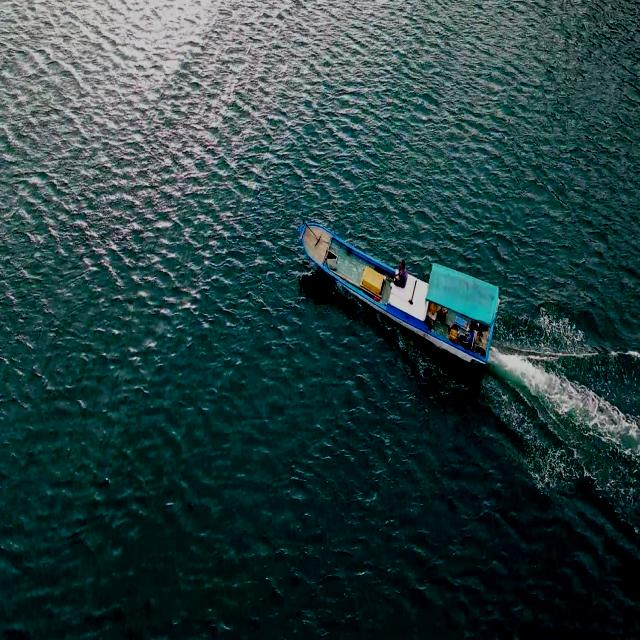ship: (298, 208, 503, 382)
